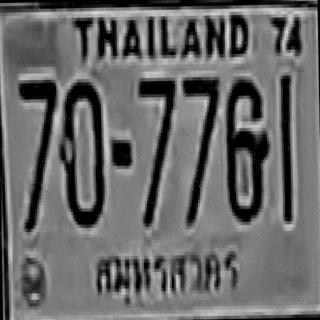N00: (58, 79, 103, 225)
N01: (278, 74, 291, 219)
N06: (223, 77, 268, 220)
N07: (17, 76, 56, 229), (136, 74, 175, 224), (181, 73, 219, 223), (181, 73, 219, 177), (18, 76, 55, 177)
P58: (85, 242, 245, 306)
